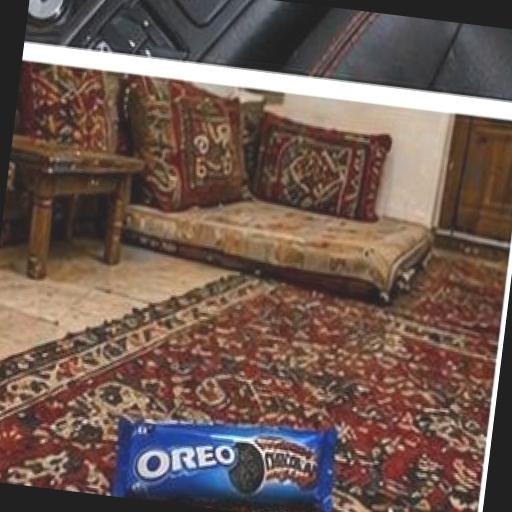oreo: (62, 347, 398, 512)
